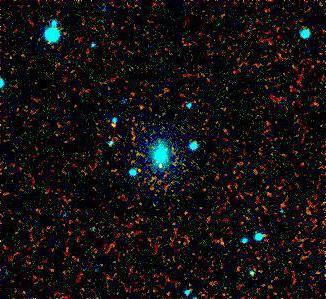star: (100, 110, 130, 140)
